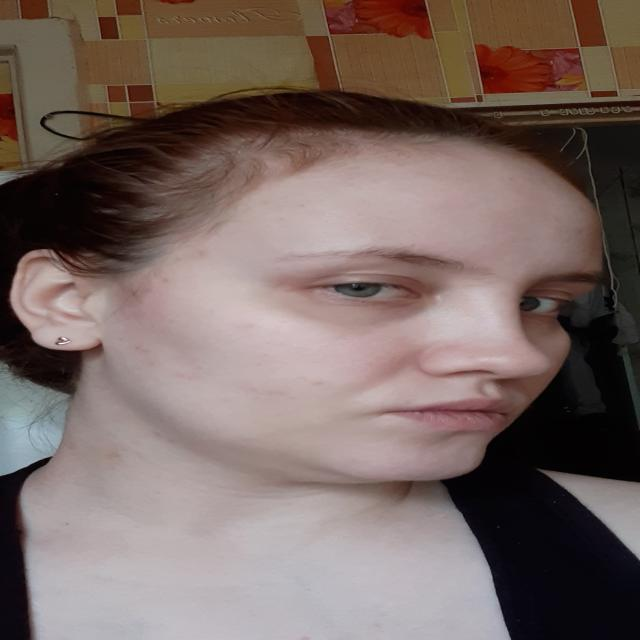Acne: (157, 276, 175, 285), (235, 322, 258, 329), (108, 451, 123, 460), (257, 200, 277, 206), (133, 346, 151, 352), (294, 203, 312, 209), (196, 248, 211, 255), (305, 380, 328, 384)
